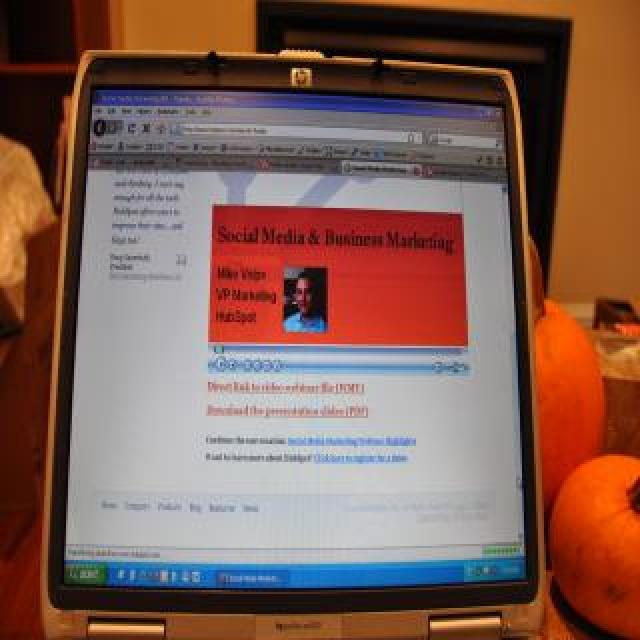laptop_computer: (20, 52, 544, 640)
